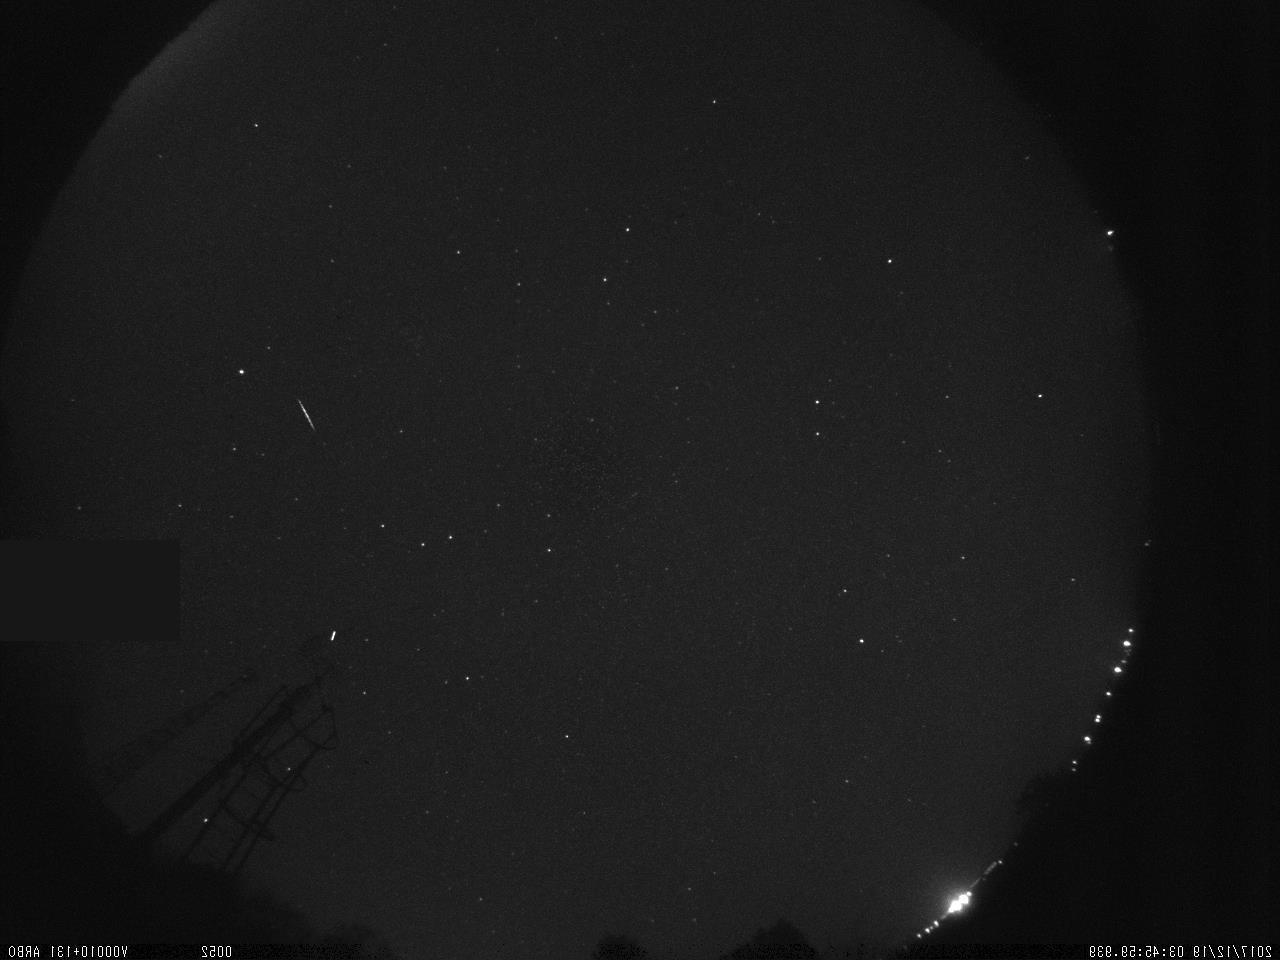meteor: (290, 390, 321, 438)
